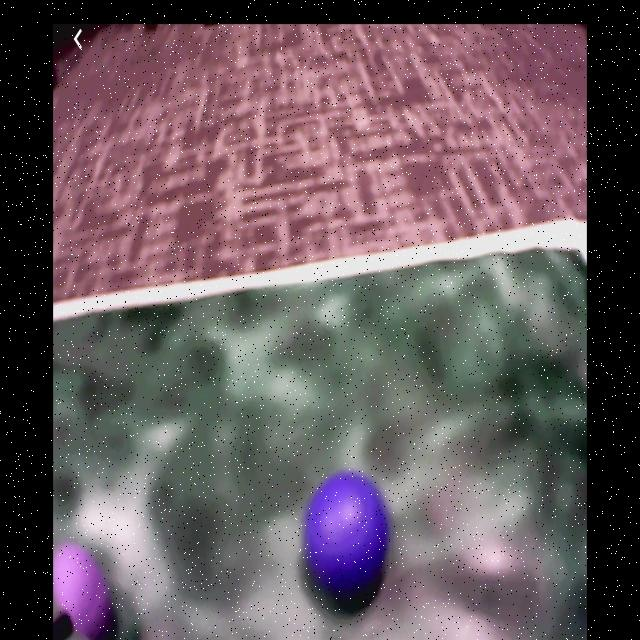ball: (304, 474, 391, 591), (55, 546, 108, 637)
